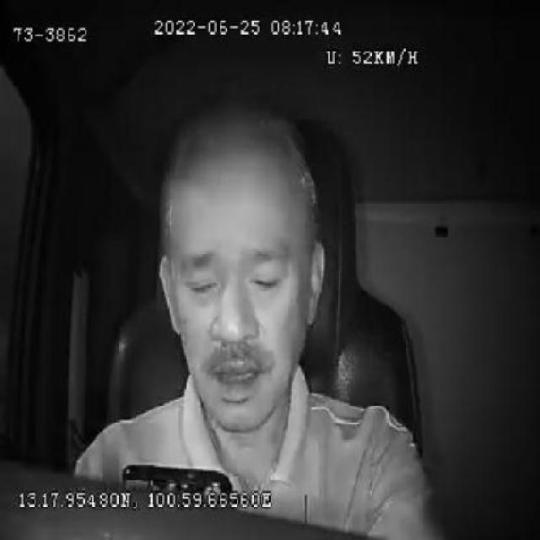phone: (120, 457, 237, 493)
